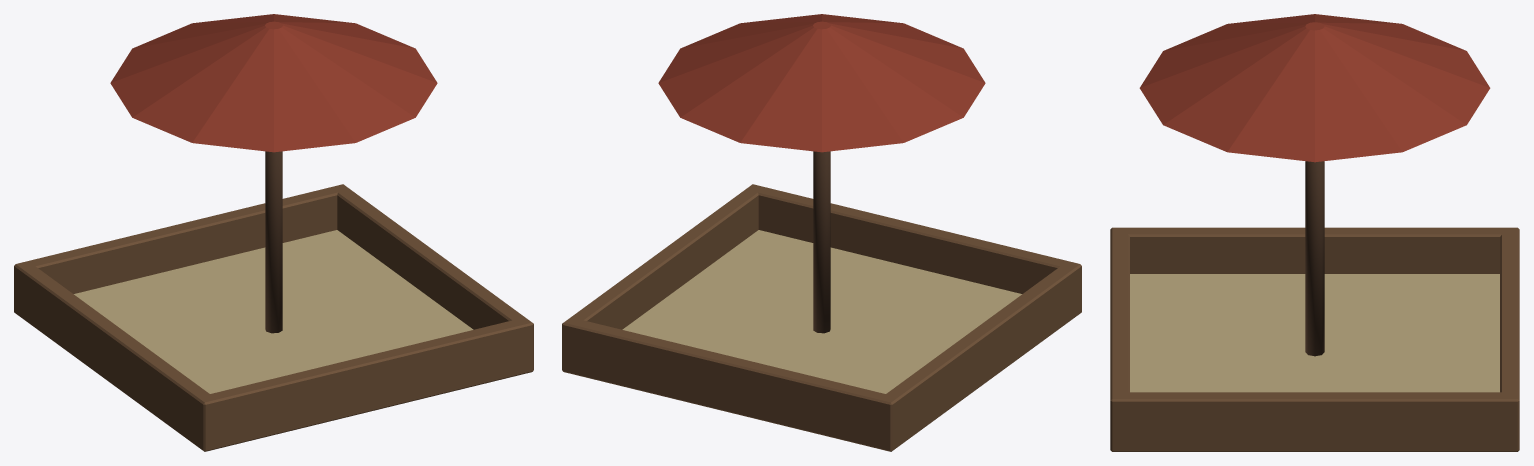
The model's file is sandbox.glb.
3 renders of one model, left to right at view 1: azimuth 30°, elevation 25°; view 2: azimuth 150°, elevation 25°; view 3: azimuth 270°, elevation 25°, orthographic. The views are drawn at different scales.
Visible parts, largest first — view 1: Sandbox; view 2: Sandbox; view 3: Sandbox.
Boxes of the visible parts, box(x1,y1,x2,y2) form: Sandbox: box(14, 14, 533, 451); Sandbox: box(562, 14, 1081, 451); Sandbox: box(1110, 14, 1519, 451).
Size of the model in its own units: 2.1 by 1.92 by 2.1.
